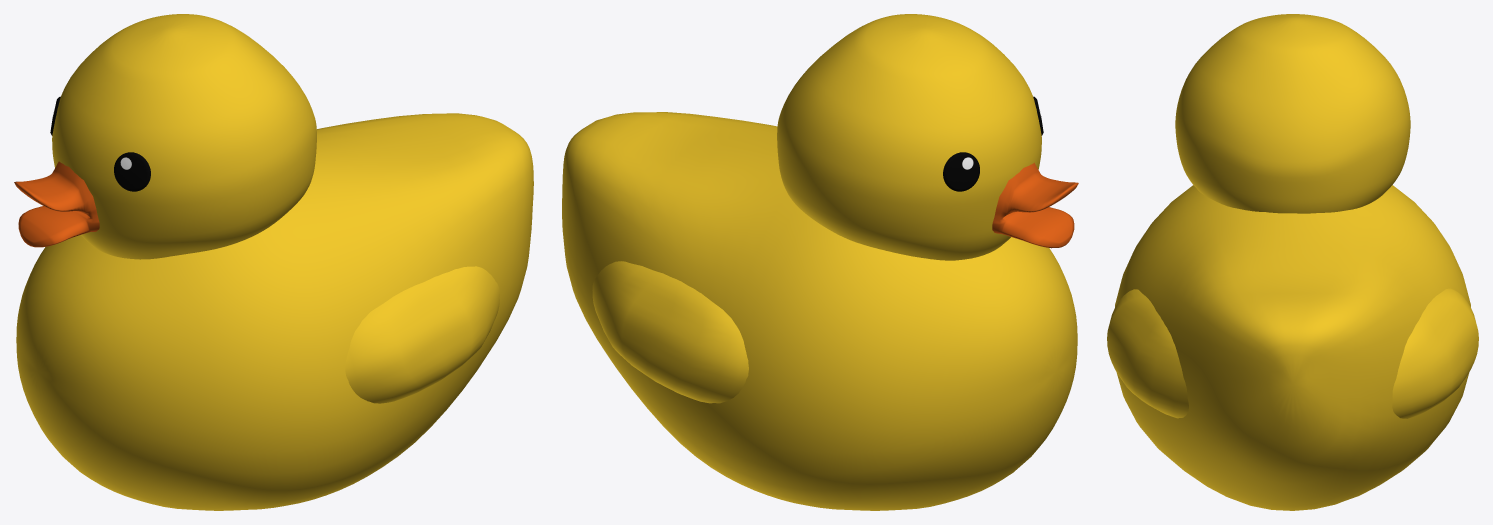
File: Rubber_Duck.fbx
3 renders of one model, left to right at view 1: azimuth 30°, elevation 25°; view 2: azimuth 150°, elevation 25°; view 3: azimuth 270°, elevation 25°, orthographic. The views are drawn at different scales.
Parts seen in each view (by area): view 1: polySurface14; view 2: polySurface14; view 3: polySurface14.
Boxes of the visible parts, bbox=[...] form: polySurface14: bbox=[14, 14, 533, 510]; polySurface14: bbox=[562, 14, 1078, 510]; polySurface14: bbox=[1107, 14, 1478, 510].
Size of the model in its own units: 3.43 by 3.05 by 2.44.
Materials: 1 (1 with a texture image).
